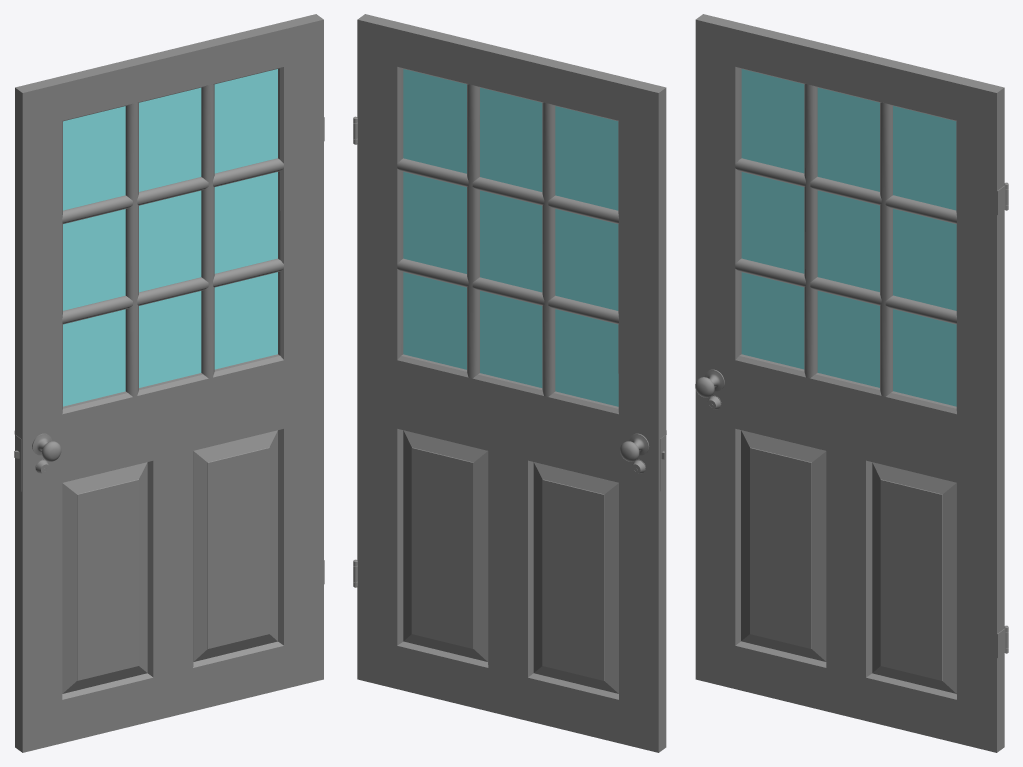
File: Door_mesh_C_L.FBX
3 renders of one model, left to right at view 1: azimuth 30°, elevation 25°; view 2: azimuth 150°, elevation 25°; view 3: azimuth 330°, elevation 25°, orthographic.
Parts seen in each view (by area): view 1: Door_mesh_C_L, Windowglass_A; view 2: Door_mesh_C_L, Windowglass_A; view 3: Door_mesh_C_L, Windowglass_A.
Part boxes in pixels (box(x1,y1,x2,y2)): Door_mesh_C_L: box(14, 14, 324, 752); Windowglass_A: box(63, 69, 277, 406); Door_mesh_C_L: box(353, 14, 666, 752); Windowglass_A: box(403, 69, 618, 406); Door_mesh_C_L: box(695, 14, 1008, 752); Windowglass_A: box(741, 69, 956, 406).
Size of the model in its own units: 105 by 216 by 19.99.
